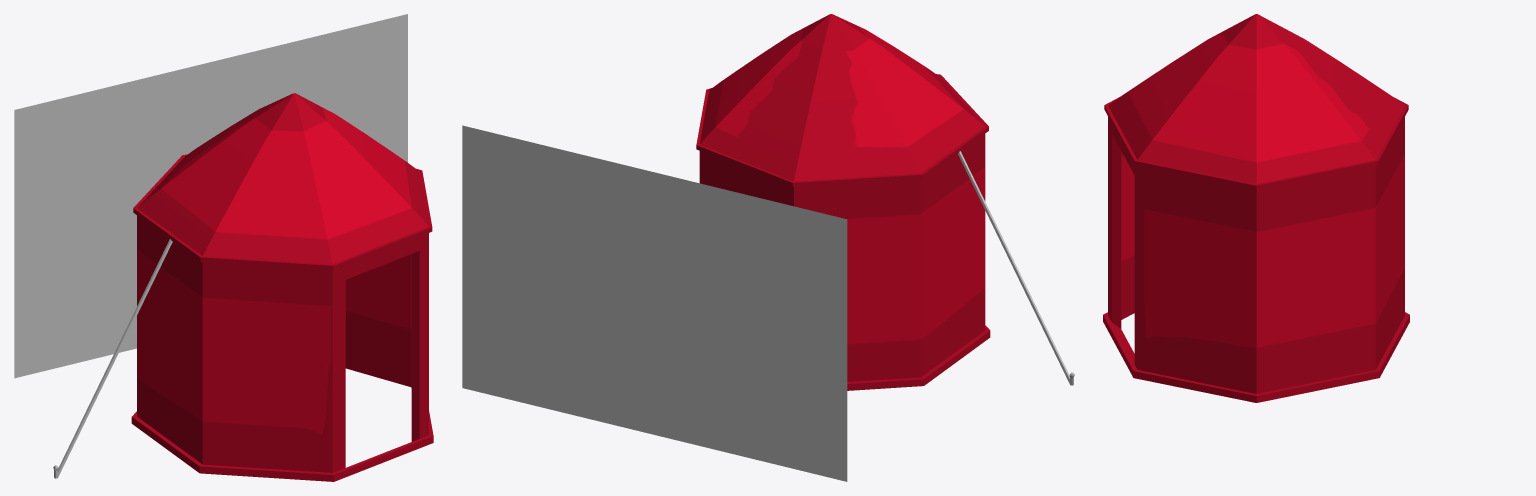
Rendered from TentExport.fbx.
The picture shows the model from 3 angles, left to right: view 1: azimuth 30°, elevation 25°; view 2: azimuth 150°, elevation 25°; view 3: azimuth 270°, elevation 25°; orthographic projection. The views are drawn at different scales.
Parts seen in each view (by area): view 1: pCylinder1, pPlane1, pCube1; view 2: pPlane1, pCylinder1, pCube1; view 3: pCylinder1.
Boxes of the visible parts, box(x1,y1,x2,y2) form: pCylinder1: box(131, 93, 433, 481); pPlane1: box(14, 14, 407, 378); pCube1: box(58, 239, 172, 477); pPlane1: box(462, 125, 847, 481); pCylinder1: box(696, 14, 990, 390); pCube1: box(958, 151, 1069, 383); pCylinder1: box(1103, 14, 1409, 402).
Size of the model in its own units: 37.62 by 25.33 by 27.73.
